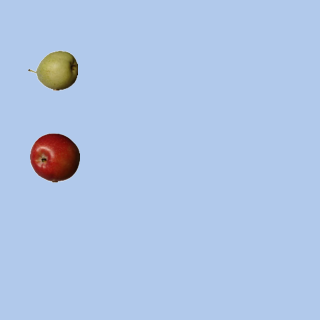Apple Braeburn: (29, 132, 79, 182)
Pear: (27, 45, 77, 95)
